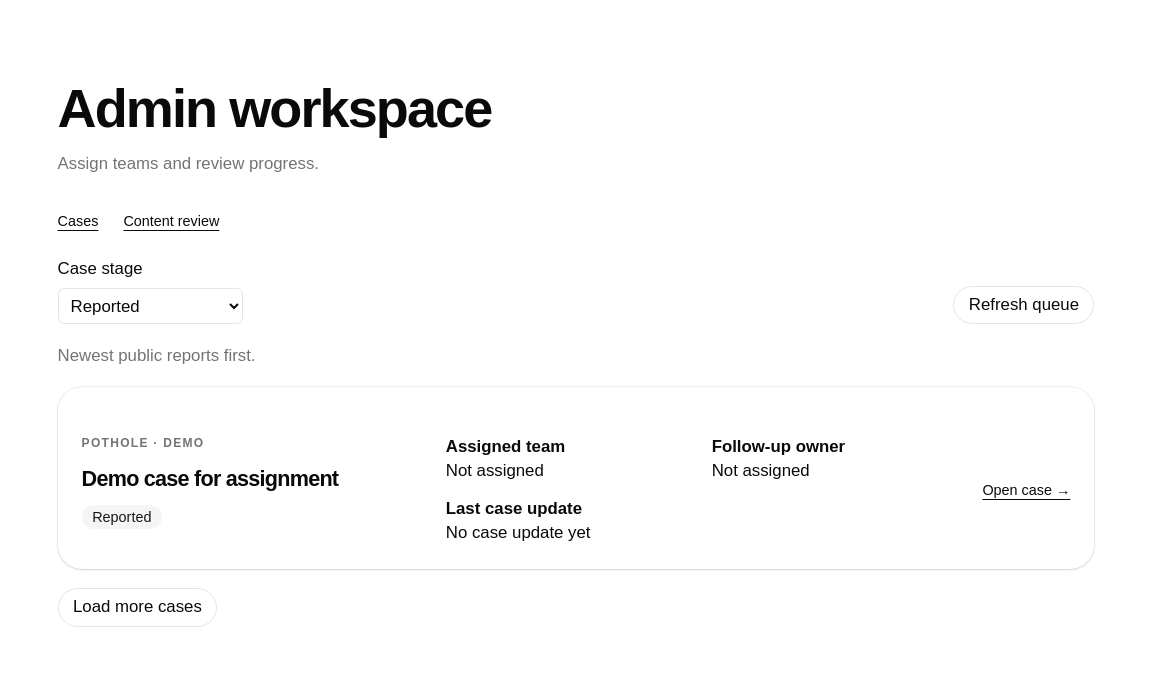
Test case: loads another page without duplicate rows
Click the button "Load more cases" at point(137, 608), box [58,588,217,627]
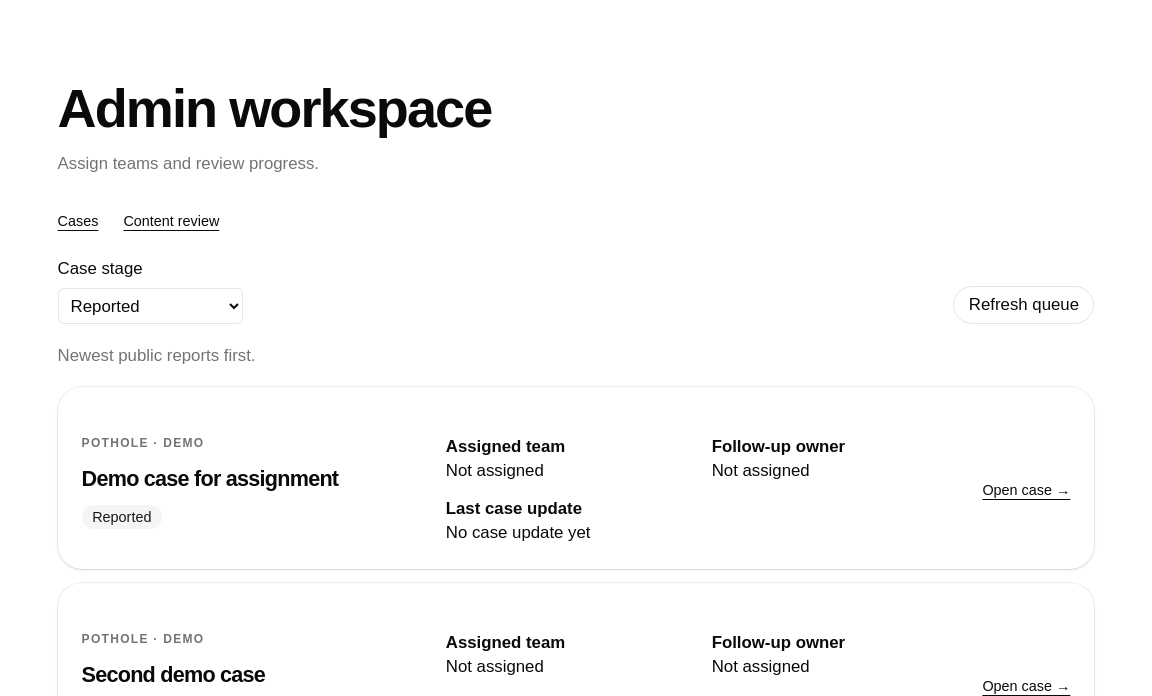
Check: the number of headings "Demo case for assignment" is 1, box [82,466,338,490]
Check: the heading "Second demo case" is shown, box [82,662,265,687]
Check: the button "Load more cases" is gone
